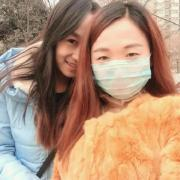NONE: (57, 28, 99, 79)
OK: (92, 42, 151, 101)
